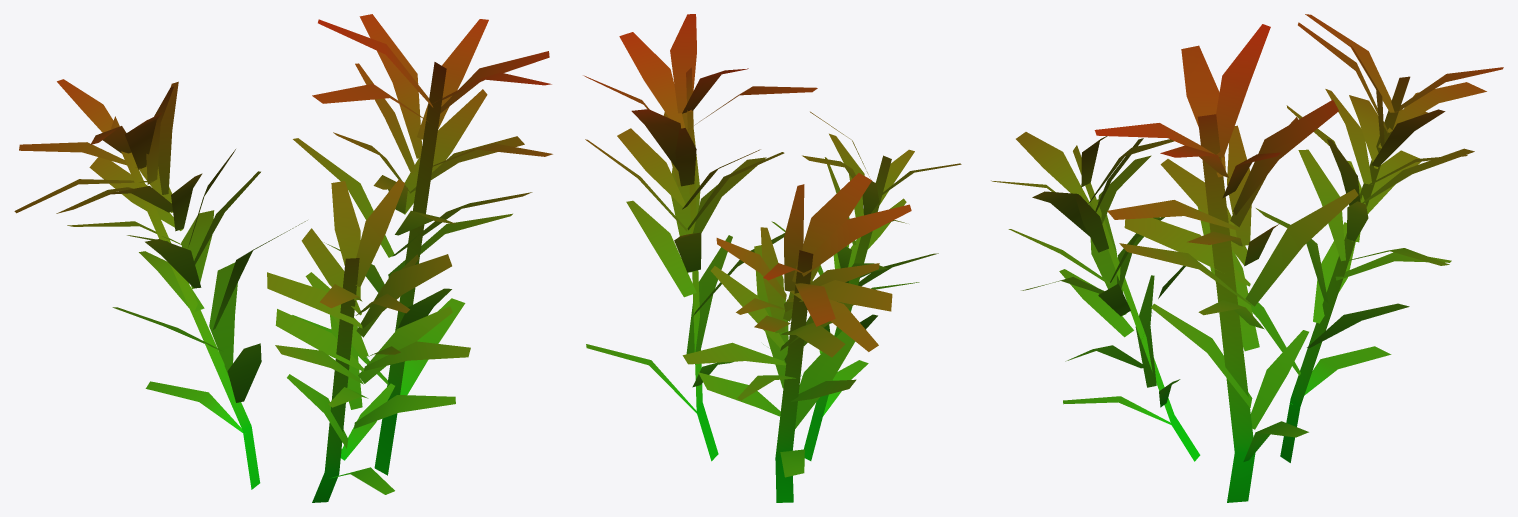
File: Goldenrods_LOD6_Var6.fbx
3 renders of one model, left to right at view 1: azimuth 30°, elevation 25°; view 2: azimuth 150°, elevation 25°; view 3: azimuth 270°, elevation 25°, orthographic. The views are drawn at different scales.
Parts seen in each view (by area): view 1: _ygo4_Var6_LOD6; view 2: _ygo4_Var6_LOD6; view 3: _ygo4_Var6_LOD6.
Boxes of the visible parts, box(x1,y1,x2,y2) form: _ygo4_Var6_LOD6: box(14, 14, 552, 502); _ygo4_Var6_LOD6: box(583, 14, 961, 502); _ygo4_Var6_LOD6: box(991, 14, 1503, 502).
Bounding box in the file's own units: 48.86 × 52.34 × 52.86.
